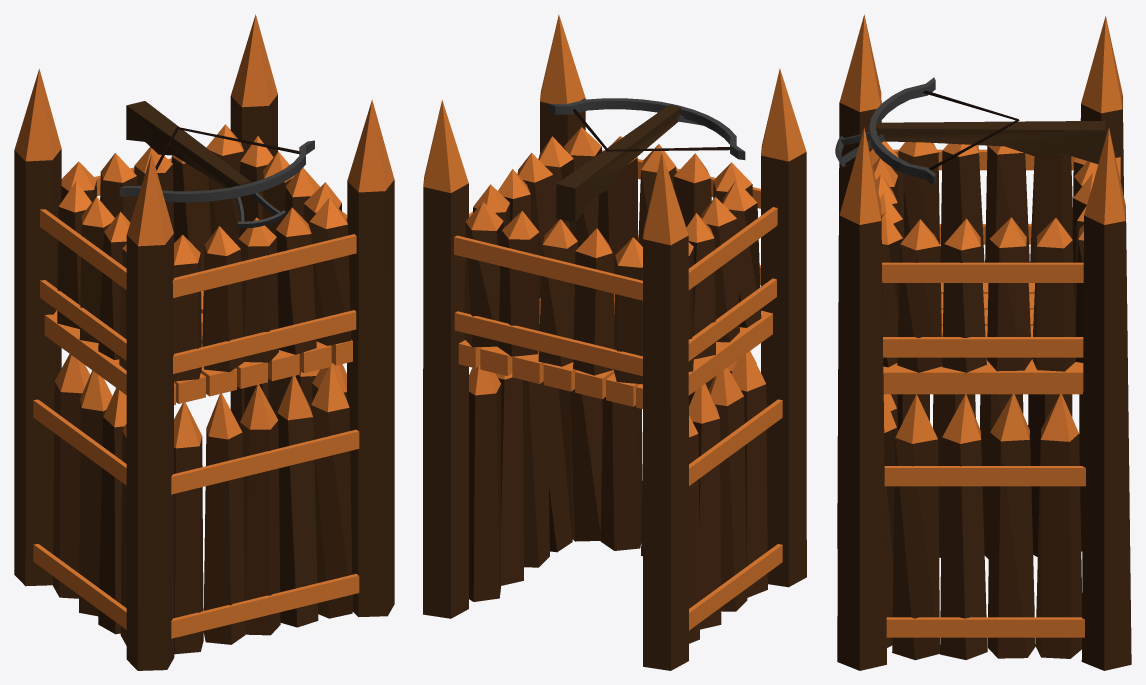
File: crossbow_simpTower.FBX
The picture shows the model from 3 angles, left to right: view 1: azimuth 30°, elevation 25°; view 2: azimuth 150°, elevation 25°; view 3: azimuth 270°, elevation 25°; orthographic projection. The views are drawn at different scales.
Parts seen in each view (by area): view 1: Cone365, Cone337, Cone364, Cone245, Cone248, Cone247, crossbow, Cone249, Cone246, Cone374, Cone348, Cone375 (+33 smaller); view 2: Cone364, Cone348, Cone365, Cone338, crossbow, Cone248, Cone376, Cone341, Cone340, Cone249, Cone377, Cone375 (+32 smaller); view 3: Cone337, Cone348, Cone342, crossbow, Cone340, Cone341, Cone338, Box071, Cone347, Box029, Box030, Box048 (+22 smaller).
Part boxes in pixels (box(x1,y1,x2,y2)): Cone365: box(126, 153, 174, 670); Cone337: box(347, 99, 394, 617); Cone364: box(14, 69, 61, 586); Cone245: box(203, 393, 245, 644); Cone248: box(277, 375, 318, 627); Cone247: box(240, 384, 280, 635); crossbow: box(119, 101, 314, 228); Cone249: box(311, 365, 352, 618); Cone246: box(174, 402, 203, 654); Cone374: box(53, 354, 90, 598); Cone348: box(230, 14, 277, 426); Cone375: box(79, 370, 112, 616); Cone364: box(643, 152, 688, 670); Cone348: box(423, 100, 468, 618); Cone365: box(761, 68, 806, 587); Cone338: box(469, 365, 501, 601); crossbow: box(549, 98, 745, 222); Cone248: box(600, 397, 642, 550); Cone376: box(708, 367, 747, 611); Cone341: box(522, 380, 549, 567); Cone340: box(495, 373, 523, 585); Cone249: box(569, 389, 602, 541); Cone377: box(731, 351, 767, 597); Cone375: box(689, 384, 721, 629); Cone337: box(837, 127, 886, 670); Cone348: box(1081, 127, 1131, 670); Cone342: box(892, 394, 939, 660); crossbow: box(835, 77, 1105, 185); Cone340: box(987, 394, 1035, 658); Cone341: box(940, 394, 987, 659); Cone338: box(1035, 394, 1081, 658); Box071: box(883, 359, 1083, 394); Cone347: box(897, 219, 942, 372); Box029: box(882, 262, 1083, 282); Box030: box(884, 466, 1085, 486); Box048: box(883, 337, 1083, 357).
Size of the model in its own units: 66.65 by 124 by 62.34.
